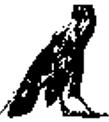Owl: (6, 3, 105, 120)
